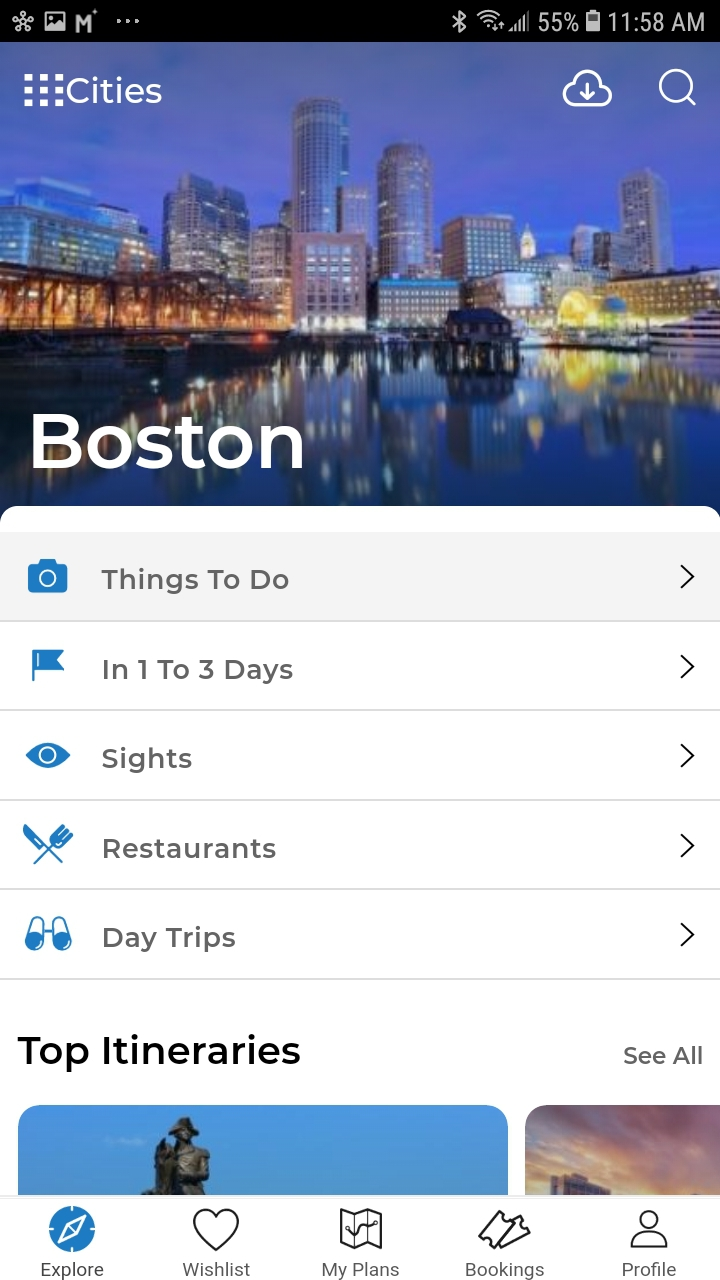Icon: (478, 1209, 532, 1250), (50, 1206, 96, 1252), (193, 1207, 240, 1251), (562, 70, 613, 109), (340, 1208, 383, 1250), (657, 69, 697, 108), (630, 1210, 668, 1249), (28, 559, 69, 594), (24, 74, 65, 108), (26, 743, 72, 769), (680, 743, 696, 769), (679, 564, 695, 590), (680, 654, 695, 680), (680, 922, 695, 947), (680, 833, 695, 858)
Image: (1, 43, 720, 507), (19, 1106, 509, 1196), (525, 1105, 720, 1195), (24, 823, 75, 865), (26, 915, 74, 952), (32, 649, 66, 681)
Text: (33, 413, 304, 470), (18, 1033, 300, 1073), (104, 659, 294, 685), (103, 569, 289, 595), (104, 838, 277, 859), (105, 926, 237, 953), (67, 76, 164, 105), (102, 746, 193, 774), (623, 1045, 703, 1065), (466, 1261, 545, 1280), (323, 1261, 400, 1280), (43, 1262, 104, 1280), (182, 1262, 251, 1277), (622, 1261, 676, 1277)
UpperTaskBar: (1, 1, 720, 43)
